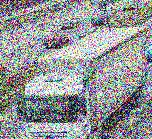truck: (18, 27, 147, 139)
